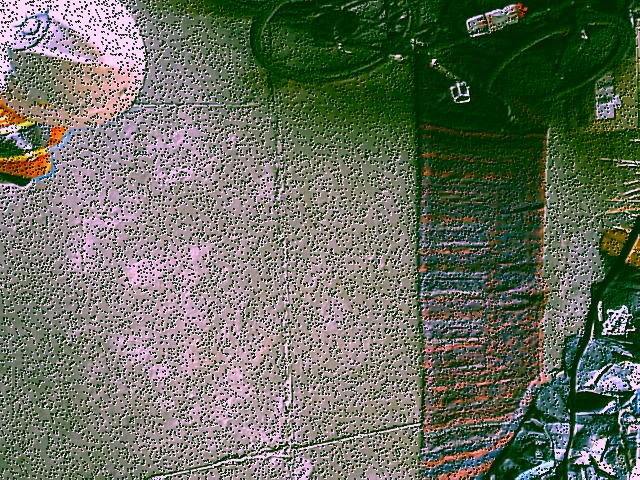eight: (1, 0, 55, 50)
